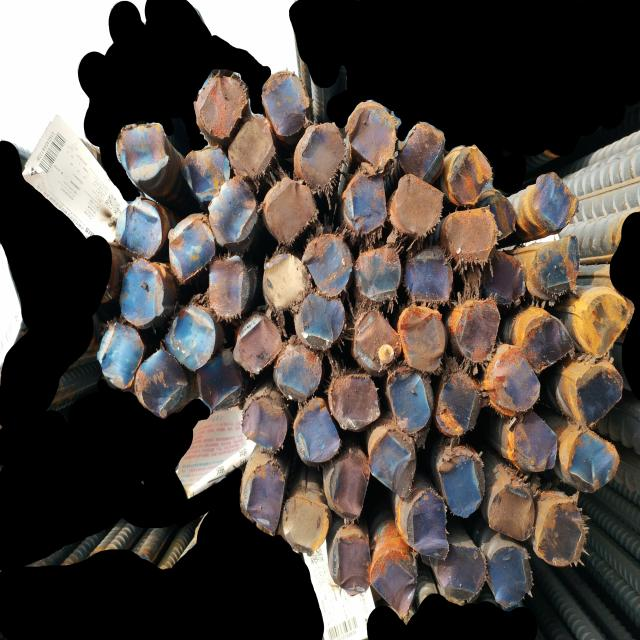Steel-Rod: (516, 164, 583, 241), (190, 60, 251, 142), (345, 96, 398, 180), (396, 302, 454, 377), (163, 205, 218, 284), (511, 305, 575, 372), (388, 172, 449, 242), (484, 346, 543, 418), (384, 356, 437, 435), (292, 389, 343, 471), (263, 166, 311, 251), (369, 421, 421, 499), (439, 446, 487, 529), (295, 287, 351, 358), (337, 166, 397, 230), (488, 470, 537, 548), (439, 142, 496, 209), (114, 194, 170, 262), (242, 451, 287, 535), (261, 66, 314, 137), (501, 410, 558, 476), (532, 235, 586, 304), (297, 236, 360, 295), (119, 259, 171, 329), (297, 121, 344, 198), (326, 445, 373, 522), (227, 112, 280, 180), (129, 343, 185, 407), (284, 475, 326, 560), (540, 491, 582, 575), (210, 173, 257, 248), (260, 253, 314, 318), (369, 535, 414, 613), (233, 308, 286, 374), (352, 309, 399, 383), (320, 524, 370, 593), (173, 304, 216, 384), (584, 281, 629, 355), (331, 366, 377, 438), (360, 239, 406, 311), (397, 488, 444, 558), (397, 118, 445, 186), (433, 372, 484, 436), (572, 360, 625, 420), (115, 124, 171, 180), (242, 384, 288, 452), (451, 296, 499, 361), (446, 210, 500, 266), (487, 553, 535, 616), (278, 340, 329, 398), (181, 147, 236, 199), (407, 254, 460, 307), (568, 426, 610, 492), (443, 545, 483, 605), (106, 324, 143, 387), (205, 266, 248, 320), (486, 254, 528, 305), (204, 352, 240, 406), (486, 192, 516, 237)
